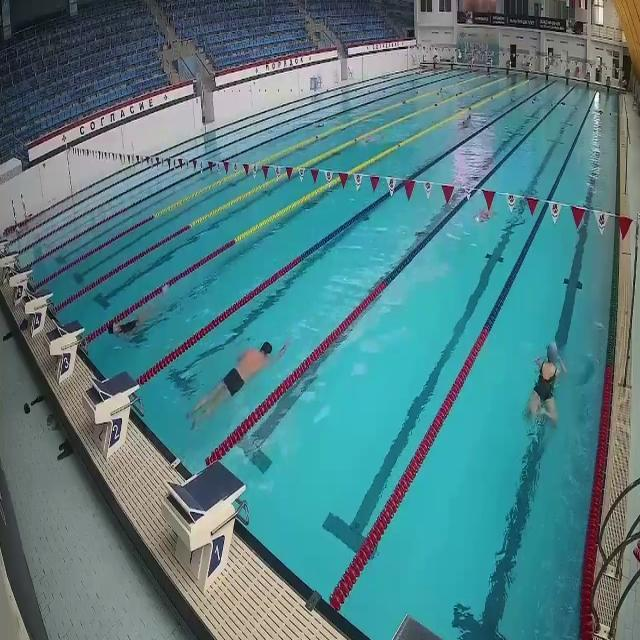Swimming: (186, 336, 293, 429), (522, 344, 566, 428), (108, 284, 170, 342), (473, 205, 496, 222)
